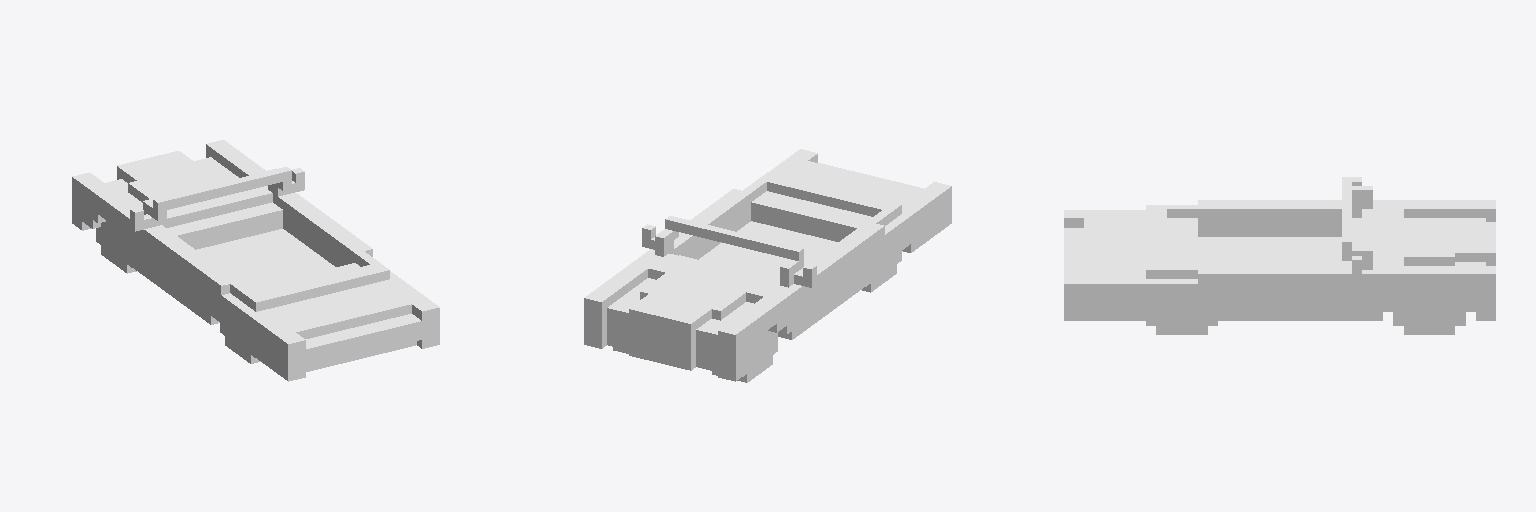
File: CarYellow.obj
3 views of the same model, side by side, from view 1: azimuth 30°, elevation 25°; view 2: azimuth 150°, elevation 25°; view 3: azimuth 270°, elevation 25° (orthographic).
Visible parts, largest first — view 1: object 1; view 2: object 1; view 3: object 1.
Boxes of the visible parts, box(x1,y1,x2,y2) form: object 1: box(72, 140, 439, 381); object 1: box(584, 149, 951, 382); object 1: box(1064, 177, 1495, 334).
Bounding box in the file's own units: 1.9 × 1 × 4.2.